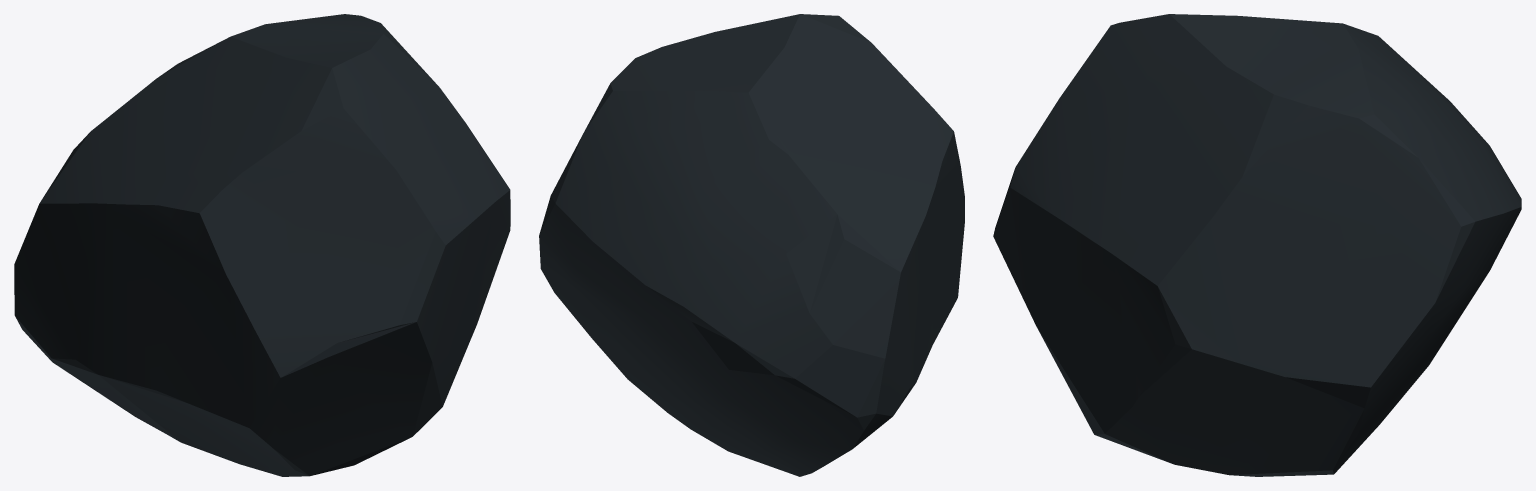
Rendered from Asteroid_s_23.FBX.
3 renders of one model, left to right at view 1: azimuth 30°, elevation 25°; view 2: azimuth 150°, elevation 25°; view 3: azimuth 270°, elevation 25°, orthographic. The views are drawn at different scales.
Visible parts, largest first — view 1: Asteroid_s_23; view 2: Asteroid_s_23; view 3: Asteroid_s_23.
Part boxes in pixels (x1=…): Asteroid_s_23: x1=14, y1=14, x2=510, y2=476; Asteroid_s_23: x1=539, y1=14, x2=964, y2=476; Asteroid_s_23: x1=993, y1=14, x2=1521, y2=476.
Size of the model in its own units: 132 by 133 by 139.
